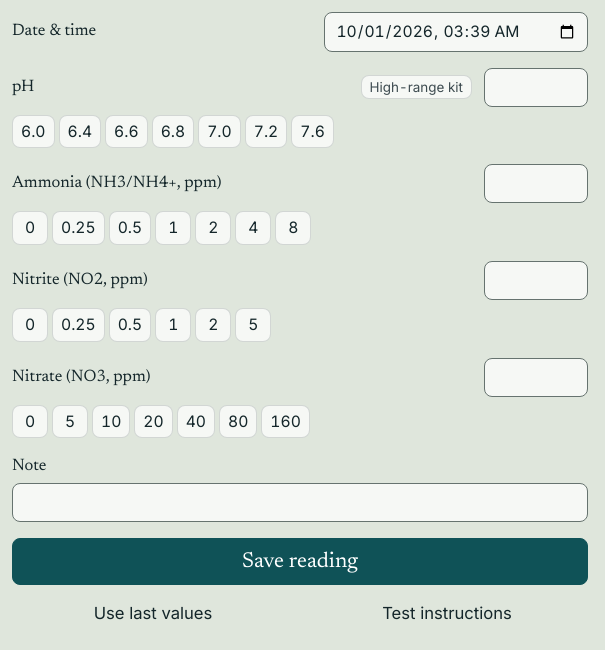
Test: QuickEntry › prefills with last values
Click the button "Use last values". click: (153, 613)
box: [12,593,294,633]
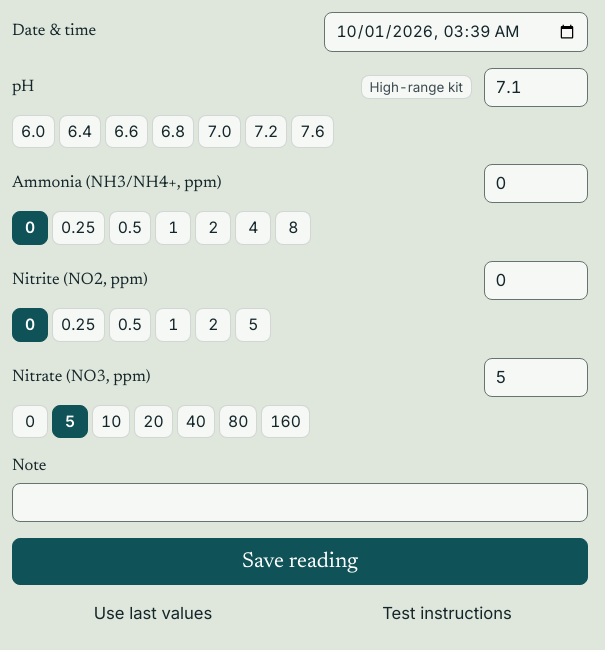
Expected: the field labelled "pH" holds "7.1", [484,68,588,107]
